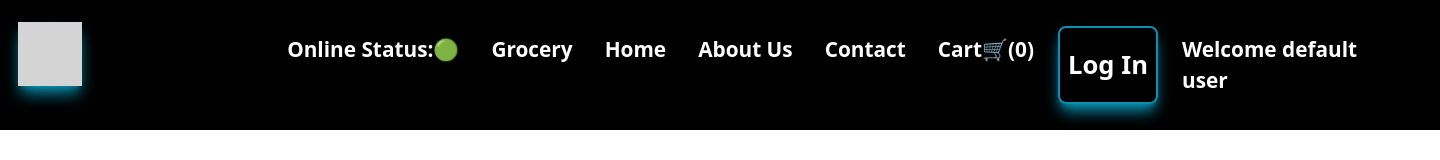
Test: should change login button to log out btn
Click the button "Log In". click: (1108, 65)
box: x1=1058 y1=26 x2=1158 y2=104
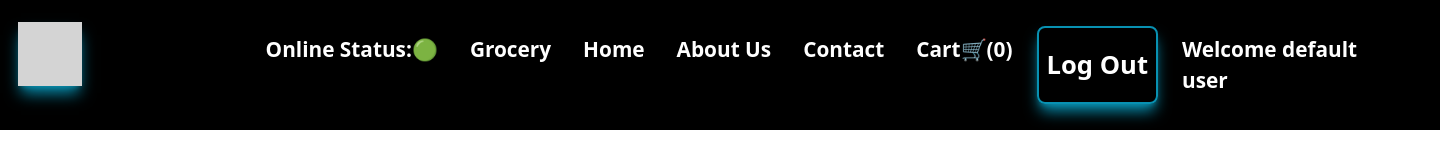
Result: the button "Log Out" is shown at x1=1036 y1=26 x2=1158 y2=104
